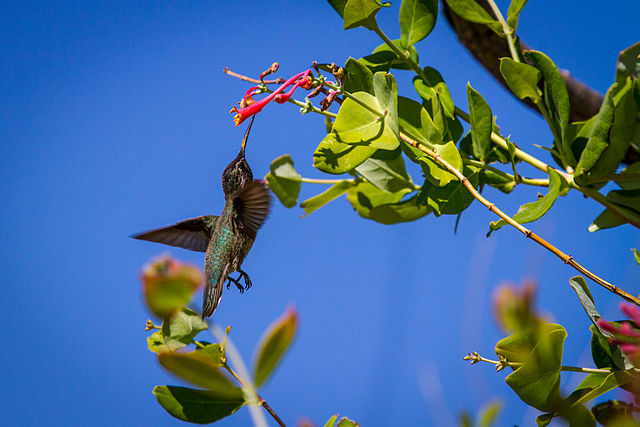calypte costae: (129, 112, 271, 315)
